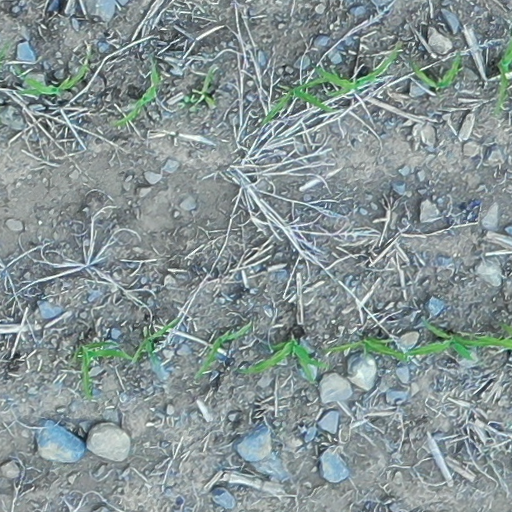planta: (398, 316, 504, 366), (312, 45, 402, 100), (237, 335, 331, 383), (68, 336, 137, 400), (262, 71, 335, 124), (193, 319, 253, 381), (111, 61, 163, 129), (128, 313, 184, 366), (14, 62, 90, 100), (325, 332, 411, 363), (409, 50, 464, 93)
